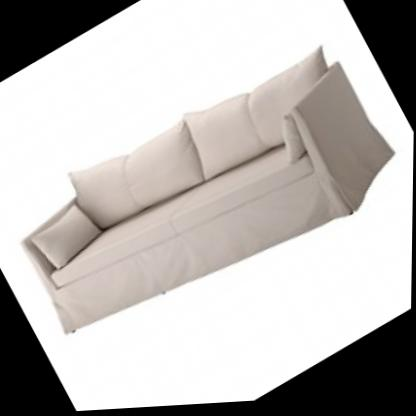Sofa: (0, 4, 416, 402)
